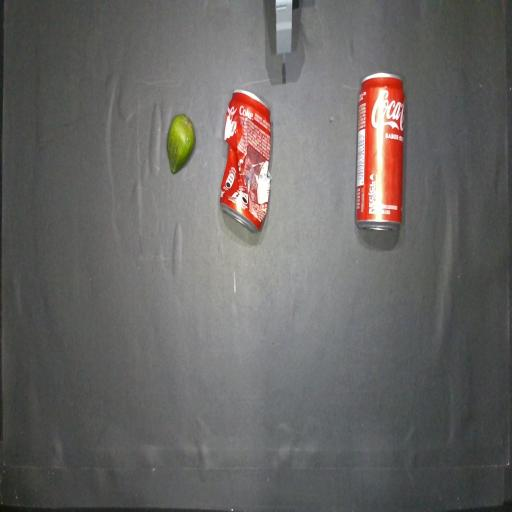higo: (167, 114, 195, 174)
lata: (356, 73, 404, 229)
lata_defectuoso: (220, 90, 271, 232)
